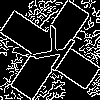K: (25, 25, 78, 81)
